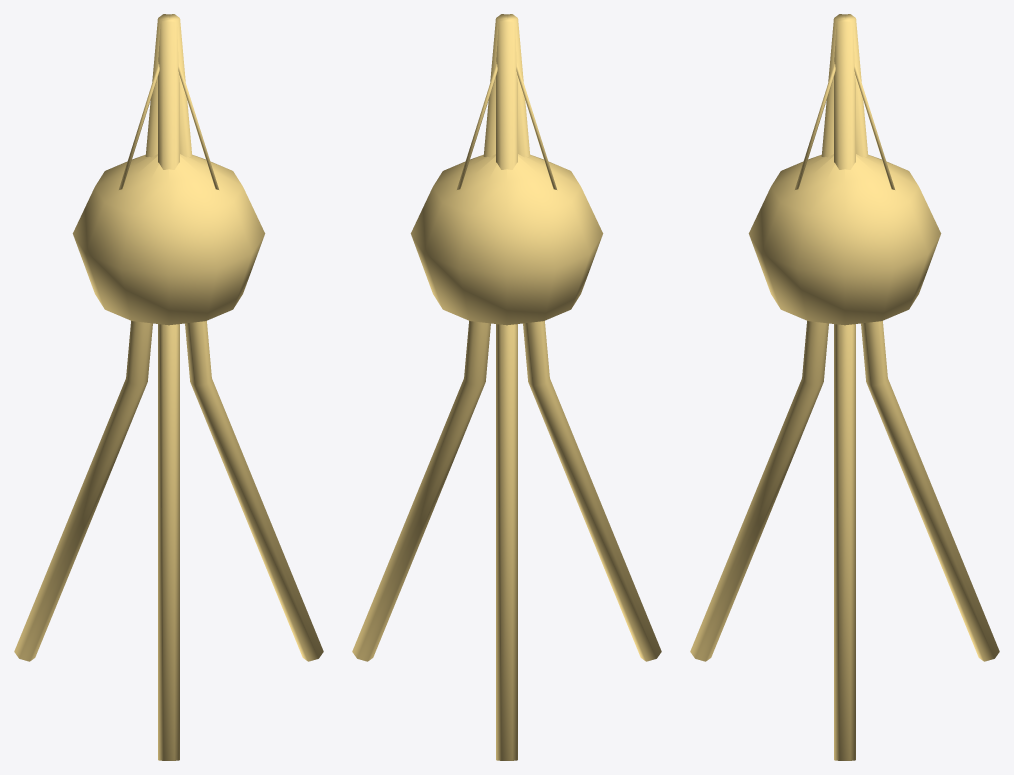
File: bb_censer.glb
The picture shows the model from 3 angles, left to right: view 1: azimuth 30°, elevation 25°; view 2: azimuth 150°, elevation 25°; view 3: azimuth 270°, elevation 25°; orthographic projection.
Parts seen in each view (by area): view 1: bb_censer; view 2: bb_censer; view 3: bb_censer.
Boxes of the visible parts, bbox=[...] form: bb_censer: bbox=[14, 14, 323, 760]; bb_censer: bbox=[352, 14, 661, 760]; bb_censer: bbox=[690, 14, 999, 760].
Size of the model in its own units: 0.7342 by 2.01 by 0.8364.
